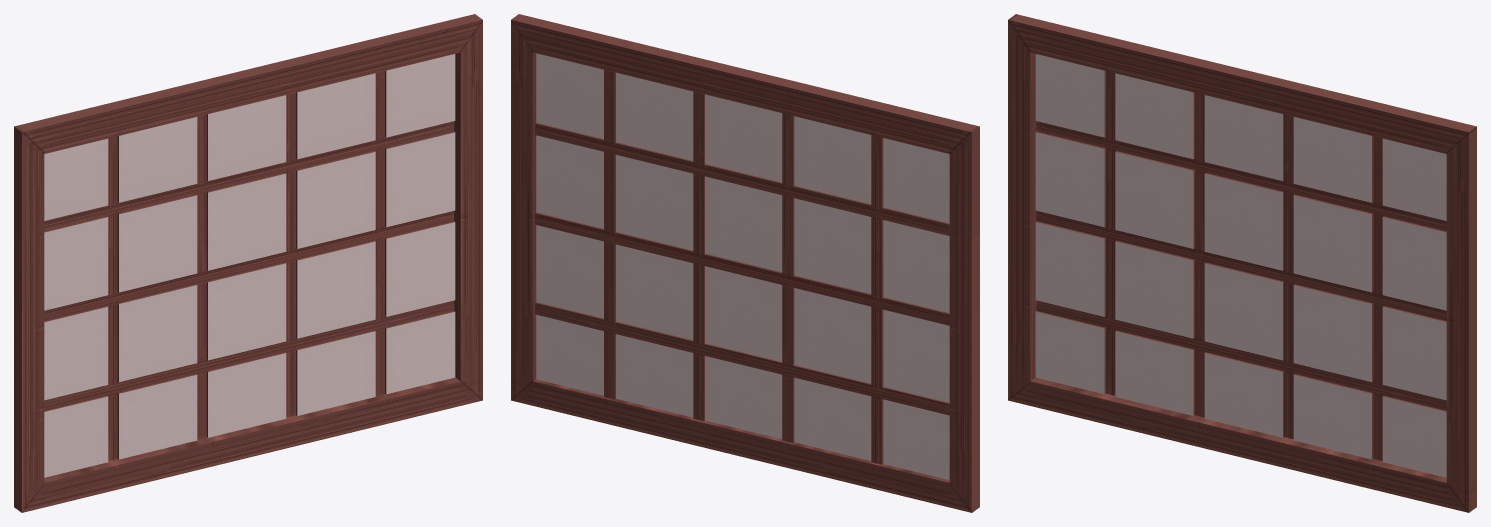
Rendered from Window.fbx.
3 views of the same model, side by side, from view 1: azimuth 30°, elevation 25°; view 2: azimuth 150°, elevation 25°; view 3: azimuth 330°, elevation 25° (orthographic).
Visible parts, largest first — view 1: Window; view 2: Window; view 3: Window.
Boxes of the visible parts, x1=… form: Window: x1=14, y1=14, x2=482, y2=512; Window: x1=511, y1=14, x2=979, y2=512; Window: x1=1008, y1=14, x2=1476, y2=512.
Size of the model in its own units: 213 by 168 by 6.34.
1 material, 1 textured.
